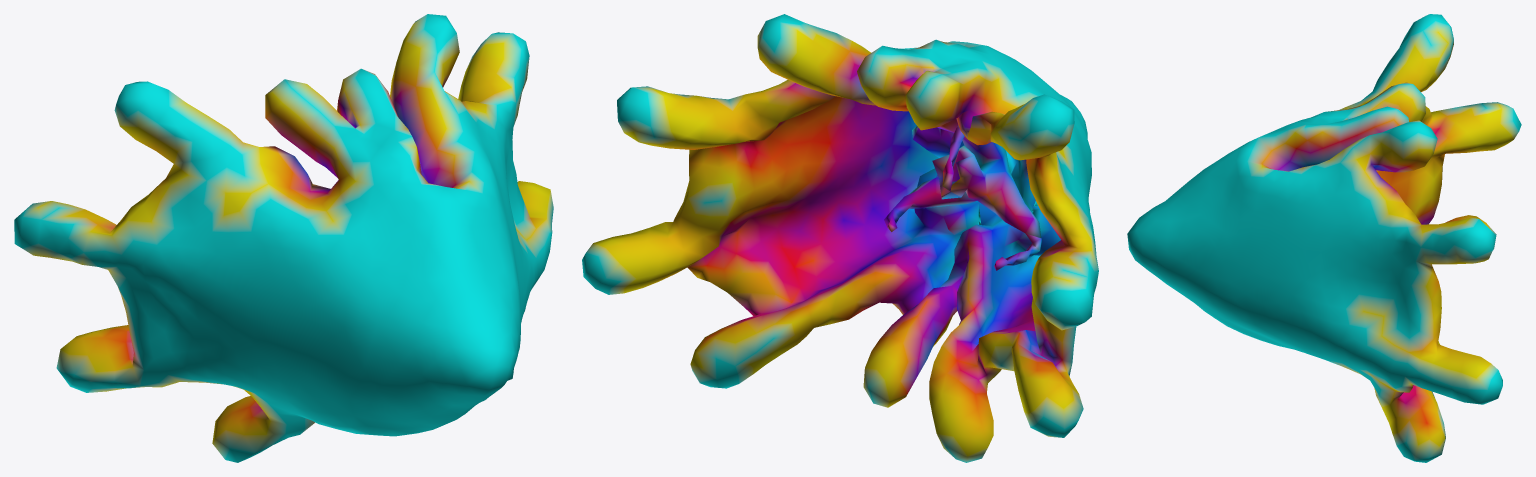
Rendered from jelly_59.gltf.
The picture shows the model from 3 angles, left to right: view 1: azimuth 30°, elevation 25°; view 2: azimuth 150°, elevation 25°; view 3: azimuth 270°, elevation 25°; orthographic projection. The views are drawn at different scales.
Visible parts, largest first — view 1: jellysquid3; view 2: jellysquid3; view 3: jellysquid3.
Boxes of the visible parts, x1,y1,x2,y2 form: jellysquid3: (14,14,553,462); jellysquid3: (582,14,1098,462); jellysquid3: (1127,14,1521,462).
Bounding box in the file's own units: 12.72 × 9.28 × 10.22.
